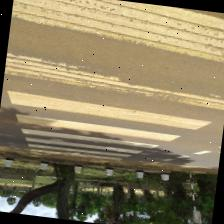crossing: (0, 0, 224, 175), (4, 90, 213, 132), (14, 114, 181, 144), (20, 128, 160, 150), (24, 136, 144, 156), (26, 142, 132, 159)
